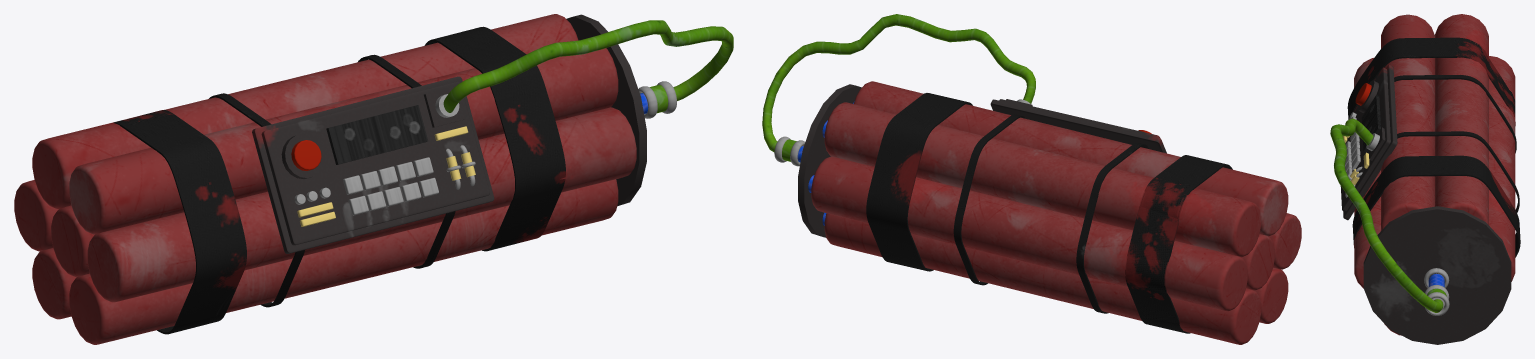
File: Bomba.glb
The picture shows the model from 3 angles, left to right: view 1: azimuth 30°, elevation 25°; view 2: azimuth 150°, elevation 25°; view 3: azimuth 270°, elevation 25°; orthographic projection. The views are drawn at different scales.
Visible parts, largest first — view 1: 46752811__1804P_Material #0_0, 46752837__4450P_Material #0_0, 46752810__1718P_Material #0_0, 46752810__1761P_Material #0_0, 46752814__1933P_Material #0_0, 46752852__1847P_Material #0_0, 46752852__1890P_Material #0_0, 46752851__4622P_Material #0_0, 46752836__4407P_Material #0_0, 46752844__4923P_Material #0_0, 46752812__17028P, 46752837__4493P_Material #0_0 (+7 smaller); view 2: 46752845__8518P_Material #0_0, 46752810__1761P_Material #0_0, 46752837__4493P_Material #0_0, 46752810__1718P_Material #0_0, 46752852__1890P_Material #0_0, 46752852__1847P_Material #0_0, 46752851__4622P_Material #0_0, 46752812__17028P, 46752836__4407P_Material #0_0, 46752853__4751P_Material #0_0, 46752854__4794P_Material #0_0, 46752837__4450P_Material #0_0 (+3 smaller); view 3: 46752812__17028P, 46752810__1761P_Material #0_0, 46752810__1718P_Material #0_0, 46752845__8518P_Material #0_0, 46752852__1890P_Material #0_0, 46752852__1847P_Material #0_0, 46752851__4622P_Material #0_0, 46752814__1933P_Material #0_0, 46752811__1804P_Material #0_0, 46752836__4407P_Material #0_0, 46752853__4751P_Material #0_0, 46752854__4794P_Material #0_0 (+7 smaller).
Boxes of the visible parts, <box> form: 46752811__1804P_Material #0_0: <box>87,107,636,302</box>; 46752837__4450P_Material #0_0: <box>69,179,618,344</box>; 46752810__1718P_Material #0_0: <box>69,48,618,234</box>; 46752810__1761P_Material #0_0: <box>32,14,578,208</box>; 46752814__1933P_Material #0_0: <box>261,81,489,245</box>; 46752852__1847P_Material #0_0: <box>114,110,246,334</box>; 46752852__1890P_Material #0_0: <box>424,26,565,251</box>; 46752851__4622P_Material #0_0: <box>443,20,733,112</box>; 46752836__4407P_Material #0_0: <box>252,76,494,253</box>; 46752844__4923P_Material #0_0: <box>326,105,427,164</box>; 46752812__17028P: <box>566,14,646,206</box>; 46752837__4493P_Material #0_0: <box>32,248,76,319</box>; 46752845__8518P_Material #0_0: <box>811,156,1247,311</box>; 46752810__1761P_Material #0_0: <box>824,102,1261,257</box>; 46752837__4493P_Material #0_0: <box>824,213,1261,344</box>; 46752810__1718P_Material #0_0: <box>853,81,1288,236</box>; 46752852__1890P_Material #0_0: <box>866,93,972,271</box>; 46752852__1847P_Material #0_0: <box>1125,155,1232,333</box>; 46752851__4622P_Material #0_0: <box>762,14,1035,152</box>; 46752812__17028P: <box>798,84,861,237</box>; 46752836__4407P_Material #0_0: <box>990,99,1166,153</box>; 46752853__4751P_Material #0_0: <box>953,114,1024,285</box>; 46752854__4794P_Material #0_0: <box>1076,143,1148,313</box>; 46752837__4450P_Material #0_0: <box>1255,267,1288,323</box>; 46752812__17028P: <box>1363,206,1511,344</box>; 46752810__1761P_Material #0_0: <box>1435,14,1488,224</box>; 46752810__1718P_Material #0_0: <box>1381,14,1434,230</box>; 46752845__8518P_Material #0_0: <box>1489,56,1515,281</box>; 46752852__1890P_Material #0_0: <box>1352,155,1520,257</box>; 46752852__1847P_Material #0_0: <box>1347,37,1515,125</box>; 46752851__4622P_Material #0_0: <box>1330,118,1443,312</box>; 46752814__1933P_Material #0_0: <box>1340,67,1390,211</box>; 46752811__1804P_Material #0_0: <box>1354,58,1380,288</box>; 46752836__4407P_Material #0_0: <box>1343,64,1397,220</box>; 46752853__4751P_Material #0_0: <box>1397,131,1519,212</box>; 46752854__4794P_Material #0_0: <box>1394,75,1516,153</box>.
Bounding box in the file's own units: 1.33 × 0.4662 × 0.45.
Materials: 1 (1 with a texture image).
